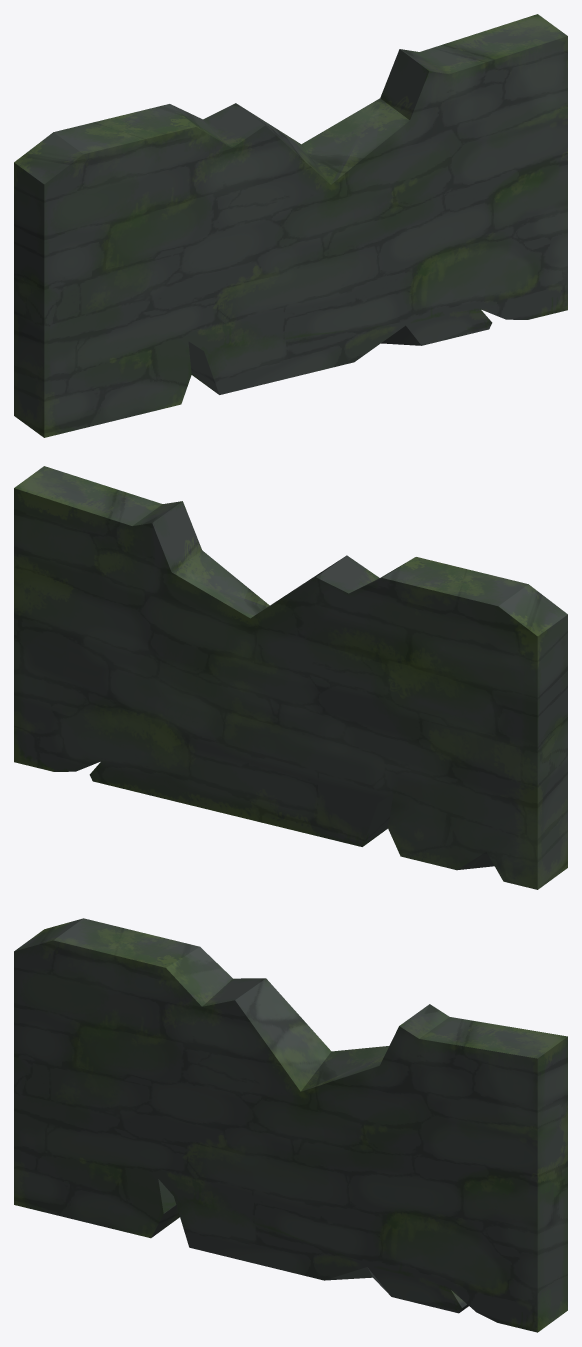
File: Wall_Test.fbx
The picture shows the model from 3 angles, top to bottom: view 1: azimuth 30°, elevation 25°; view 2: azimuth 150°, elevation 25°; view 3: azimuth 330°, elevation 25°; orthographic projection.
Visible parts, largest first — view 1: Wall; view 2: Wall; view 3: Wall.
Part boxes in pixels (bbox=[...]): Wall: bbox=[14, 14, 567, 437]; Wall: bbox=[14, 466, 567, 889]; Wall: bbox=[14, 918, 567, 1332].
Size of the model in its own units: 2000 by 1000 by 235.
Materials: 1 (1 with a texture image).
